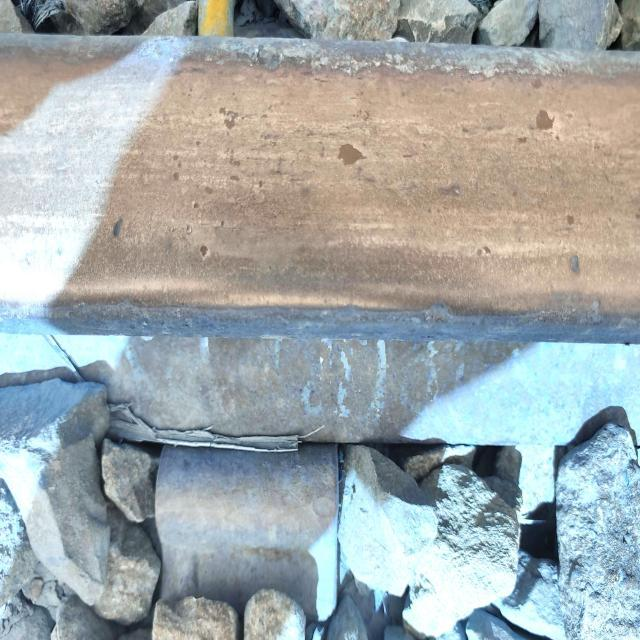Missing Fastener: (150, 431, 362, 628)
